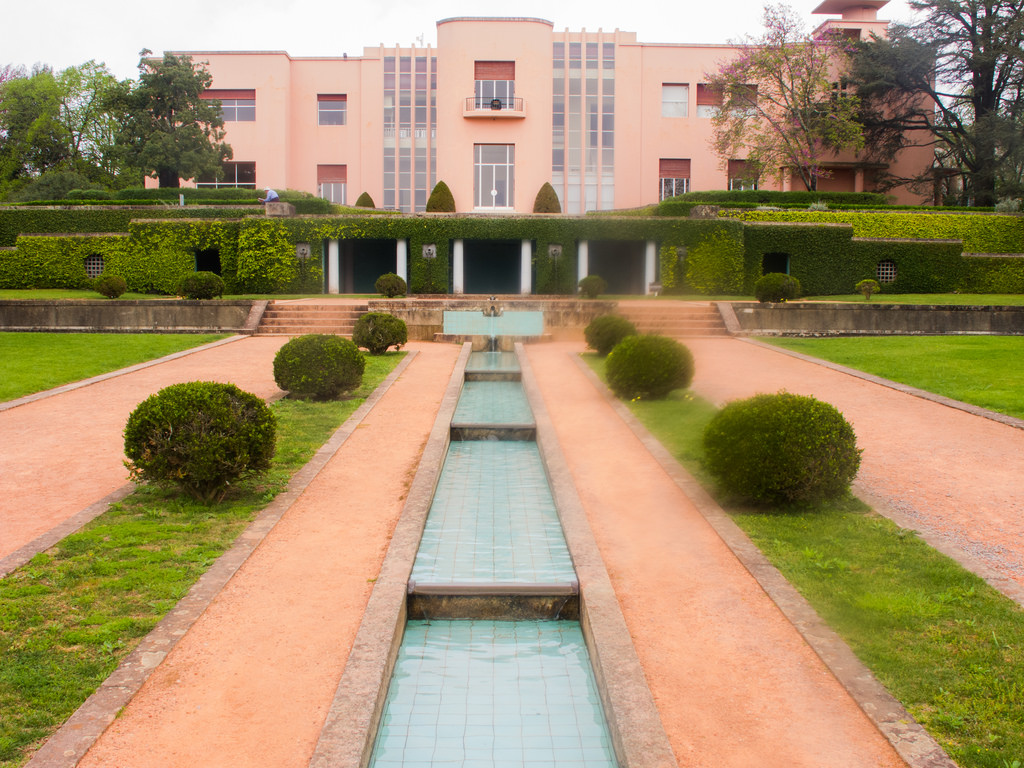serralves: (147, 0, 940, 217)
